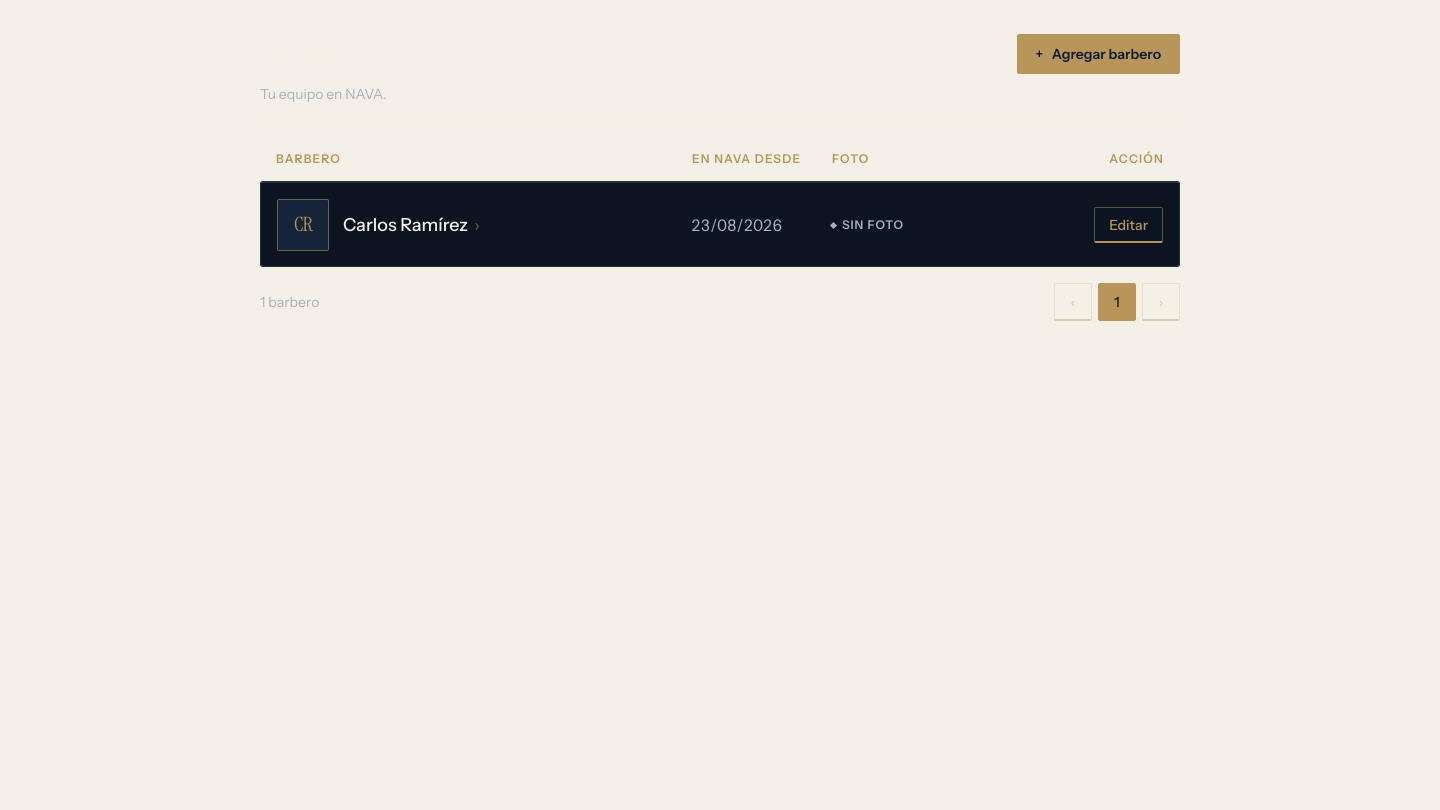
it: StaffPage › offers «Este soy yo» for a barber that is not mine and links it by barber id only
This screenshot has width=1440, height=810.
Click the button with class "staff-page__item-trigger": coordinates (412, 225) x1=343 y1=213 x2=480 y2=237
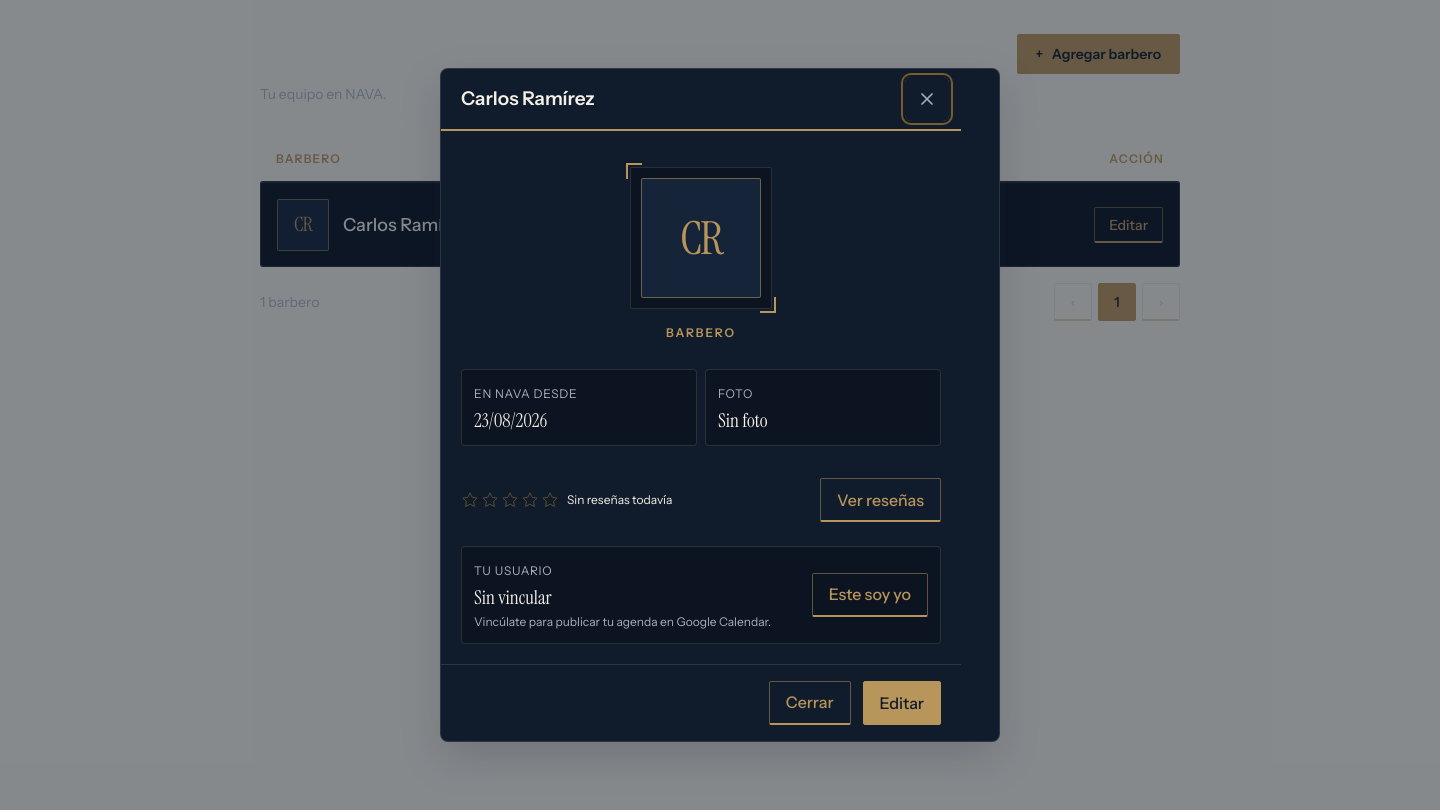
Check: the element with class "base-dialog--open" does not show "Conectar Google Calendar"
Check: the dialog with class "base-dialog--open" shows "Sin vincular", box x1=474 y1=585 x2=552 y2=610
Check: the dialog with class "base-dialog--open" shows "Vincúlate para publicar", box x1=474 y1=614 x2=771 y2=629
Click the button "Este soy yo": coordinates (870, 595) x1=812 y1=573 x2=928 y2=617
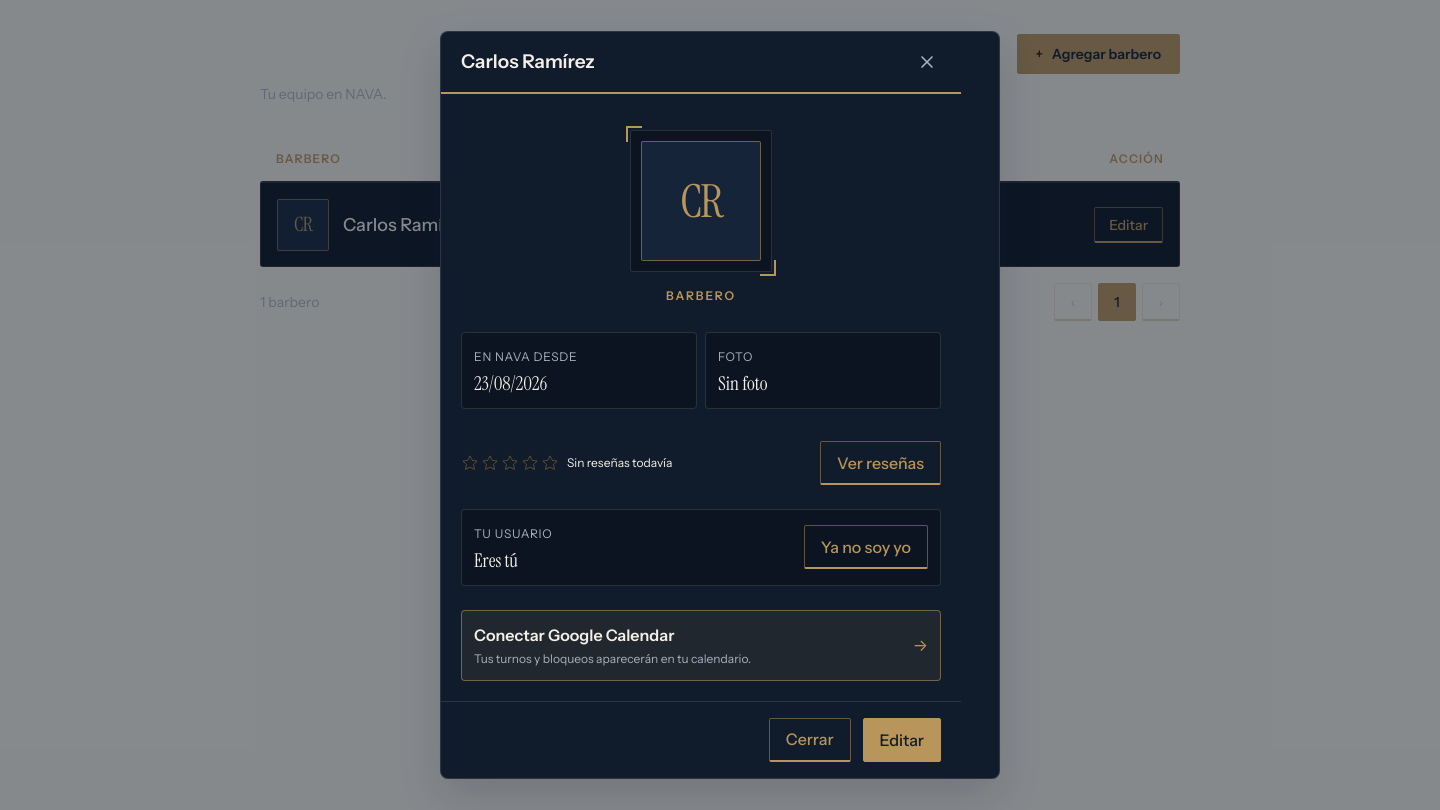
Check: the button "Ya no soy yo" is shown, box x1=804 y1=526 x2=928 y2=570
Check: the dialog with class "base-dialog--open" shows "Eres tú", box x1=474 y1=548 x2=518 y2=573
Check: the dialog with class "base-dialog--open" shows "Conectar Google Calendar", box x1=474 y1=625 x2=674 y2=645
